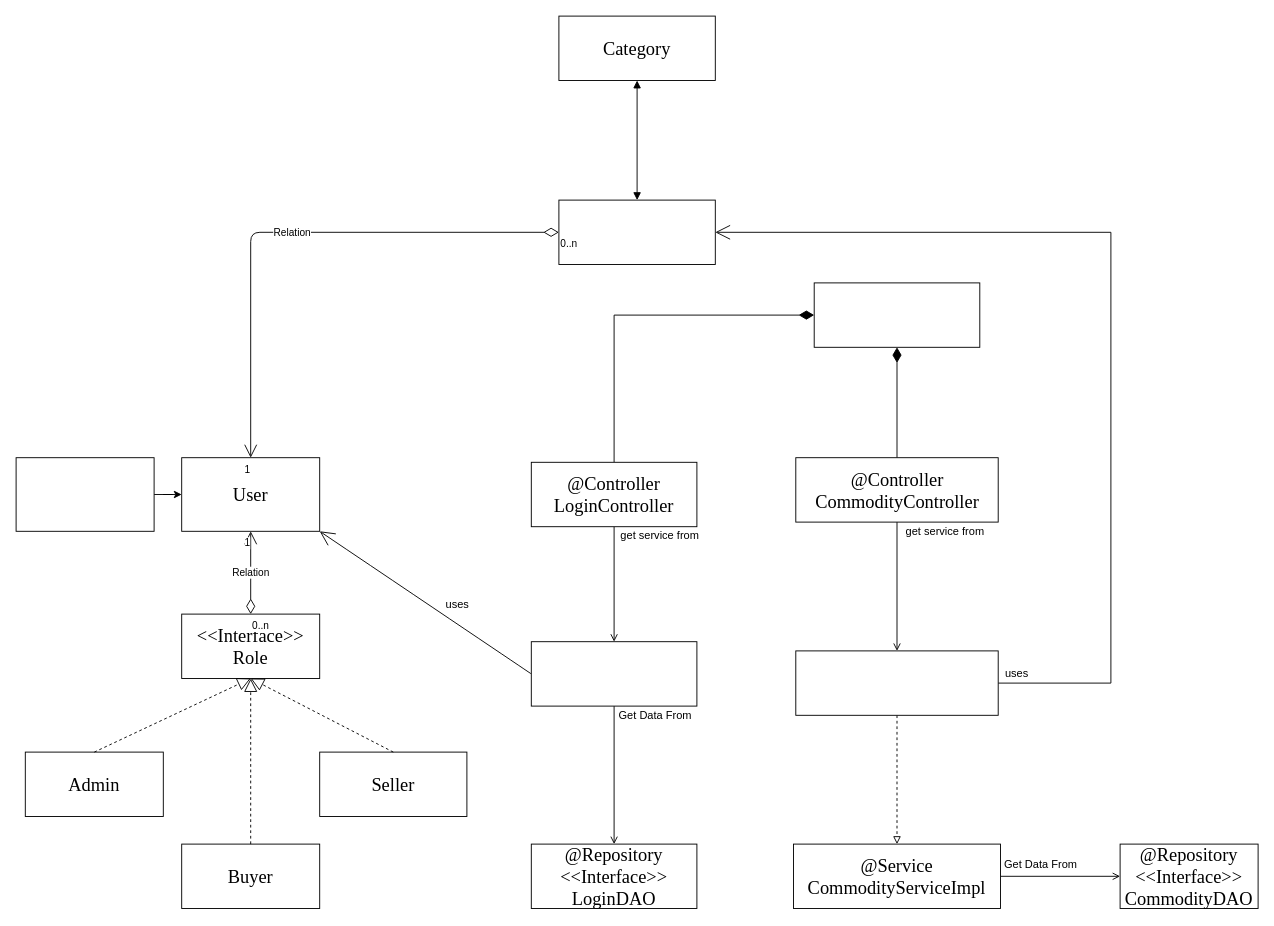
This 1274x926 diagram has some shape labels left out. The shapes that lost their labels are listed below. From the top down, each one's centre as x and y in pixels, then its label:
At (636,231): "Commodity".
At (896,314): "@Application Application".
At (84,494): "Login".
At (613,673): "@Service LoginService".
At (896,682): "<<Interface>> CommodityService".
